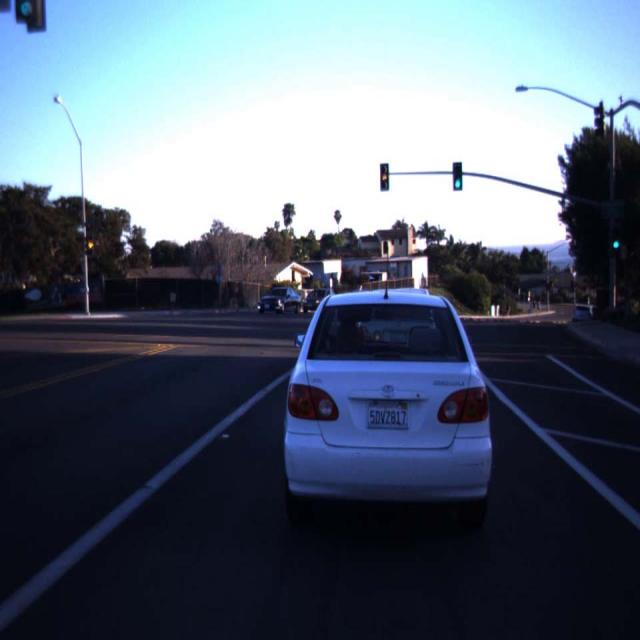yesil: (452, 162, 462, 191)
